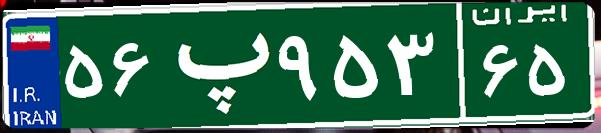3: (385, 28, 445, 110)
5: (330, 28, 385, 110), (57, 26, 110, 107), (525, 38, 570, 115)
6: (475, 38, 525, 113), (110, 28, 158, 105)
9: (273, 28, 330, 110)
پ: (158, 15, 273, 115)
